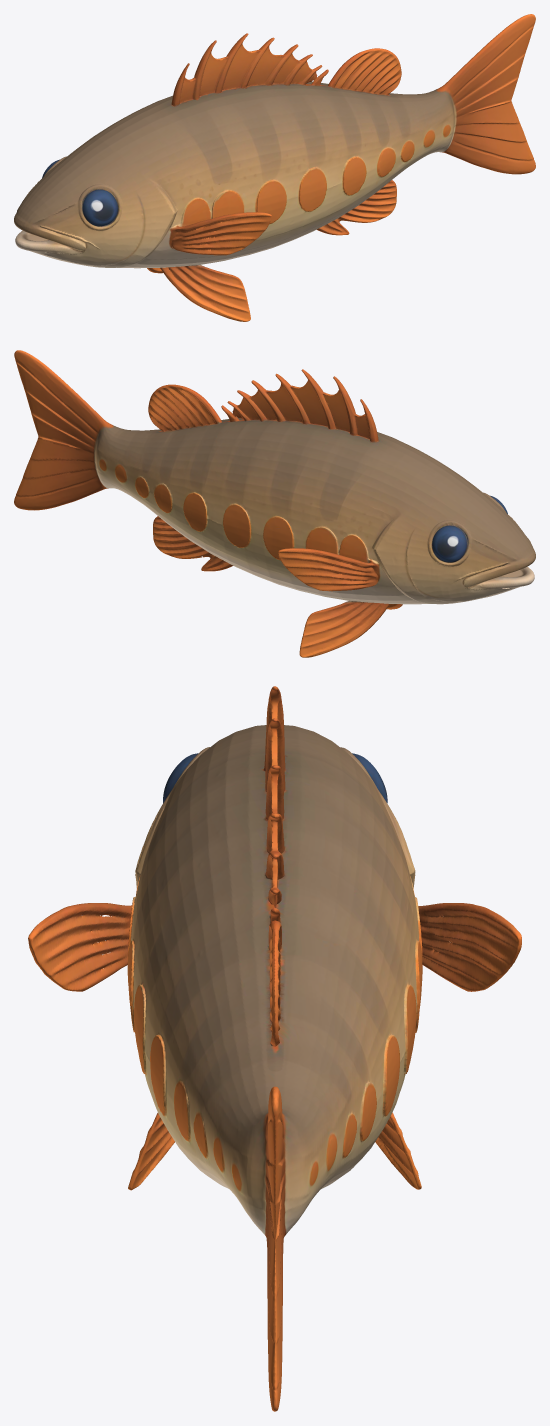
File: Serrano-guaseta.glb
The picture shows the model from 3 angles, top to bottom: view 1: azimuth 30°, elevation 25°; view 2: azimuth 150°, elevation 25°; view 3: azimuth 270°, elevation 25°; orthographic projection. The views are drawn at different scales.
Parts seen in each view (by area): view 1: tripo_node_5e045339-1c7e-45e4-b017-5e48615357d6; view 2: tripo_node_5e045339-1c7e-45e4-b017-5e48615357d6; view 3: tripo_node_5e045339-1c7e-45e4-b017-5e48615357d6.
Boxes of the visible parts, x1,y1,x2,y2 form: tripo_node_5e045339-1c7e-45e4-b017-5e48615357d6: (14, 14, 535, 321); tripo_node_5e045339-1c7e-45e4-b017-5e48615357d6: (14, 350, 535, 657); tripo_node_5e045339-1c7e-45e4-b017-5e48615357d6: (28, 686, 521, 1411).
Size of the model in its own units: 0.9983 by 0.4665 by 0.4117.
1 material, 1 textured.
